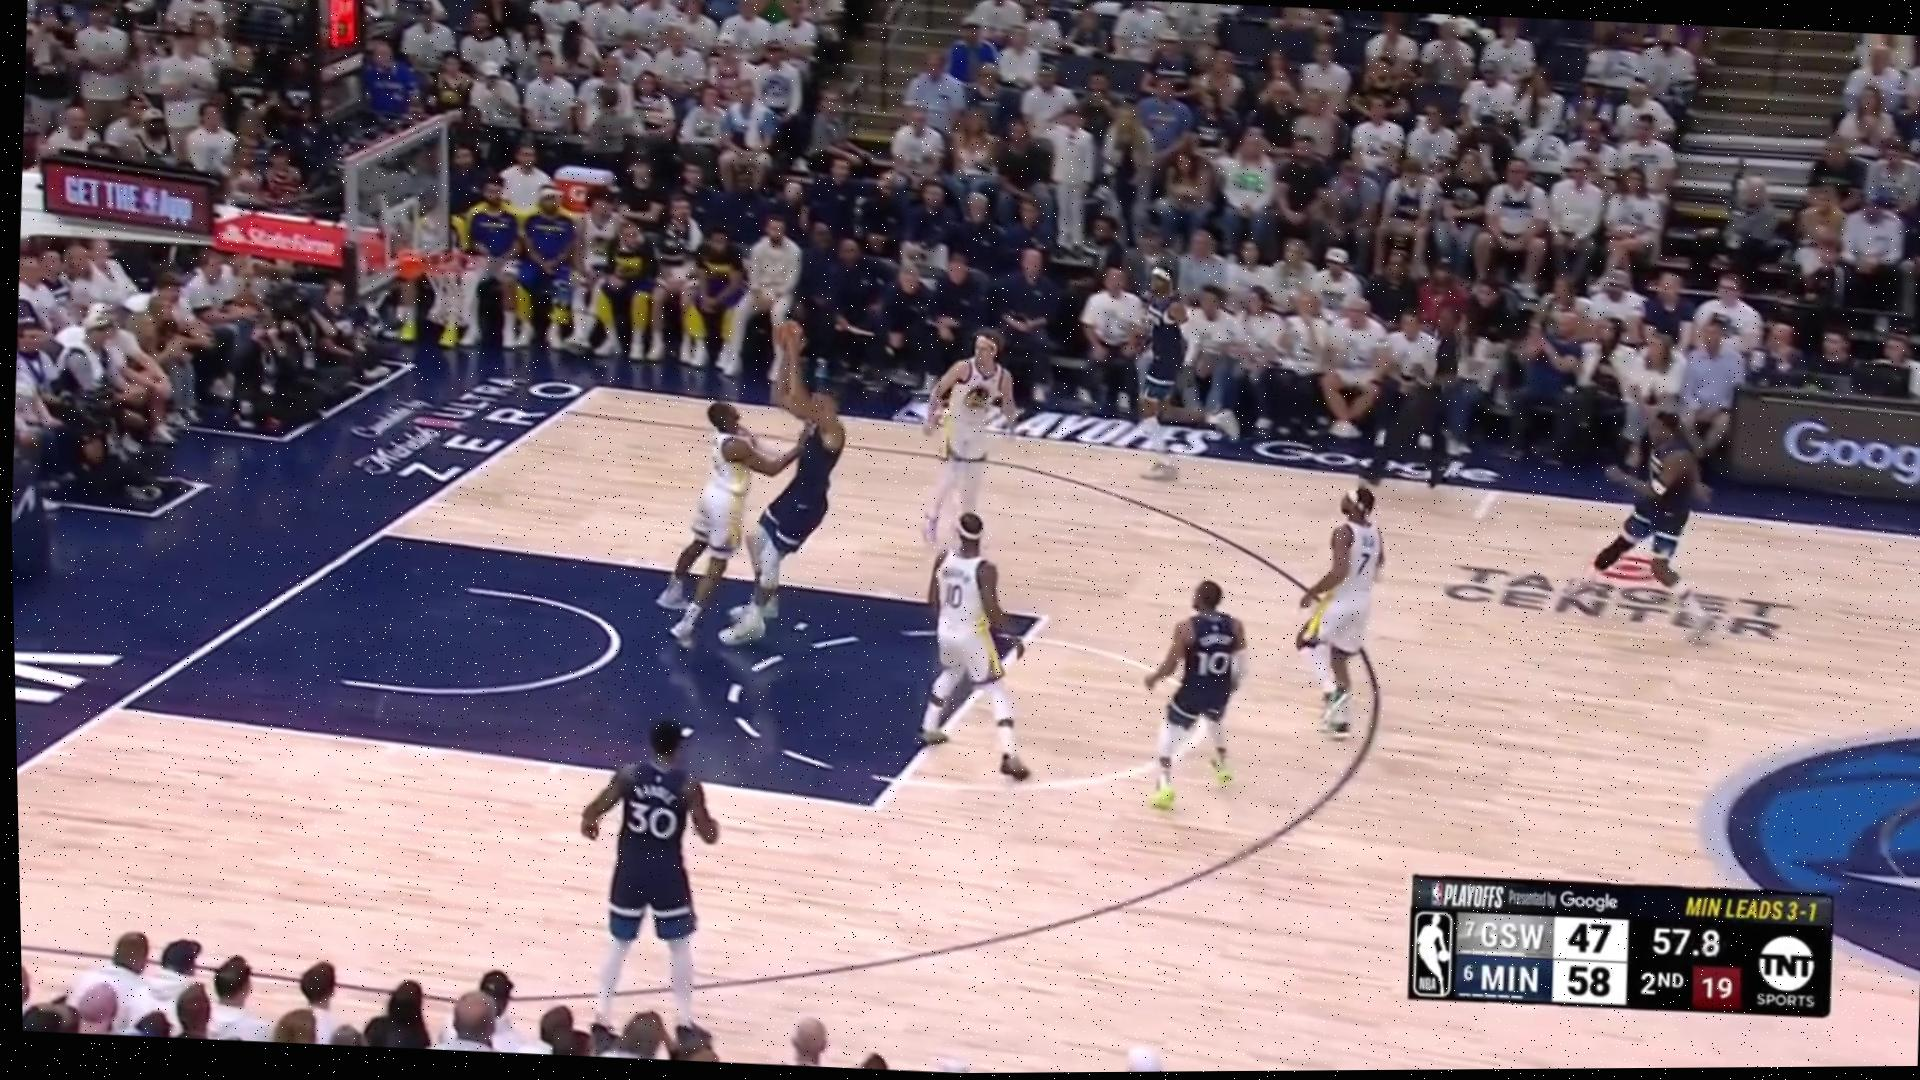foul: (678, 377, 877, 663)
